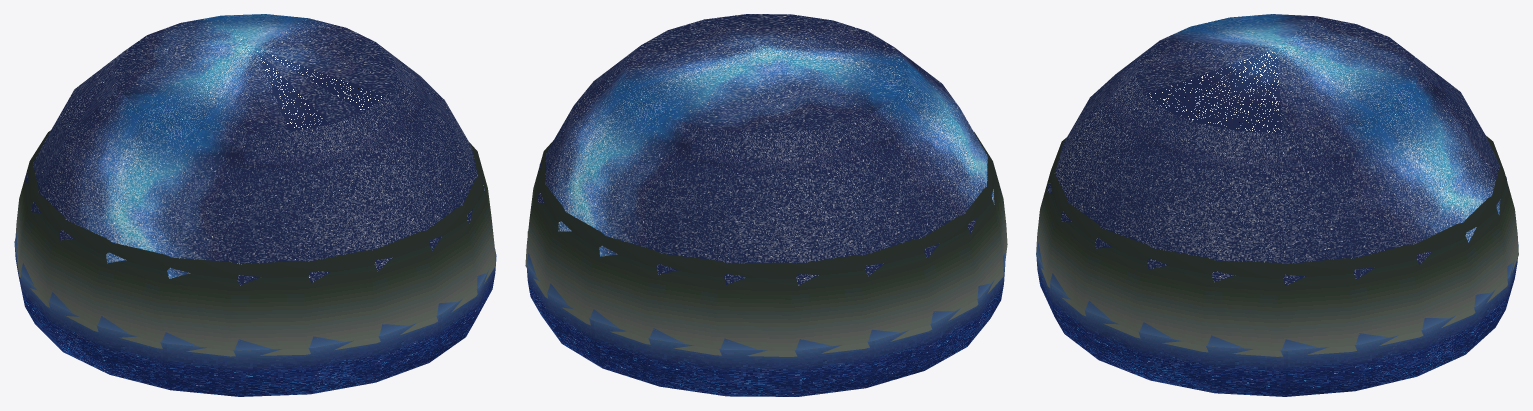
Rendered from stage-flor-sky.glb.
3 renders of one model, left to right at view 1: azimuth 30°, elevation 25°; view 2: azimuth 150°, elevation 25°; view 3: azimuth 270°, elevation 25°, orthographic.
Parts seen in each view (by area): view 1: sky; view 2: sky; view 3: sky.
Part boxes in pixels (x1=…): sky: x1=14, y1=14, x2=496, y2=396; sky: x1=525, y1=14, x2=1007, y2=396; sky: x1=1036, y1=14, x2=1518, y2=396.
Size of the model in its own units: 3605 by 2356 by 3605.
Materials: 9 (9 with a texture image).
